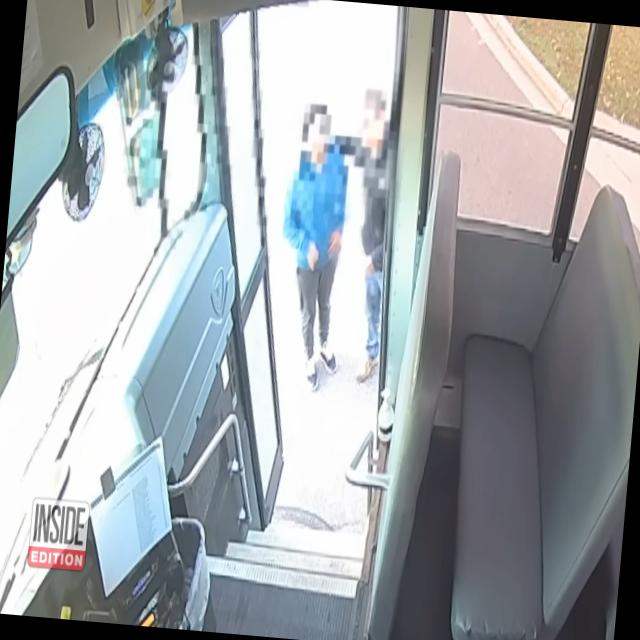bus-door: (213, 11, 283, 527)
